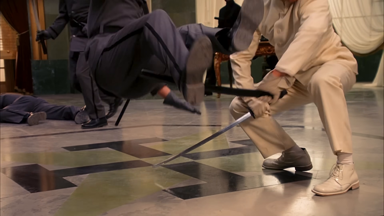bladed_weapon: (150, 102, 257, 174), (27, 1, 50, 57)
